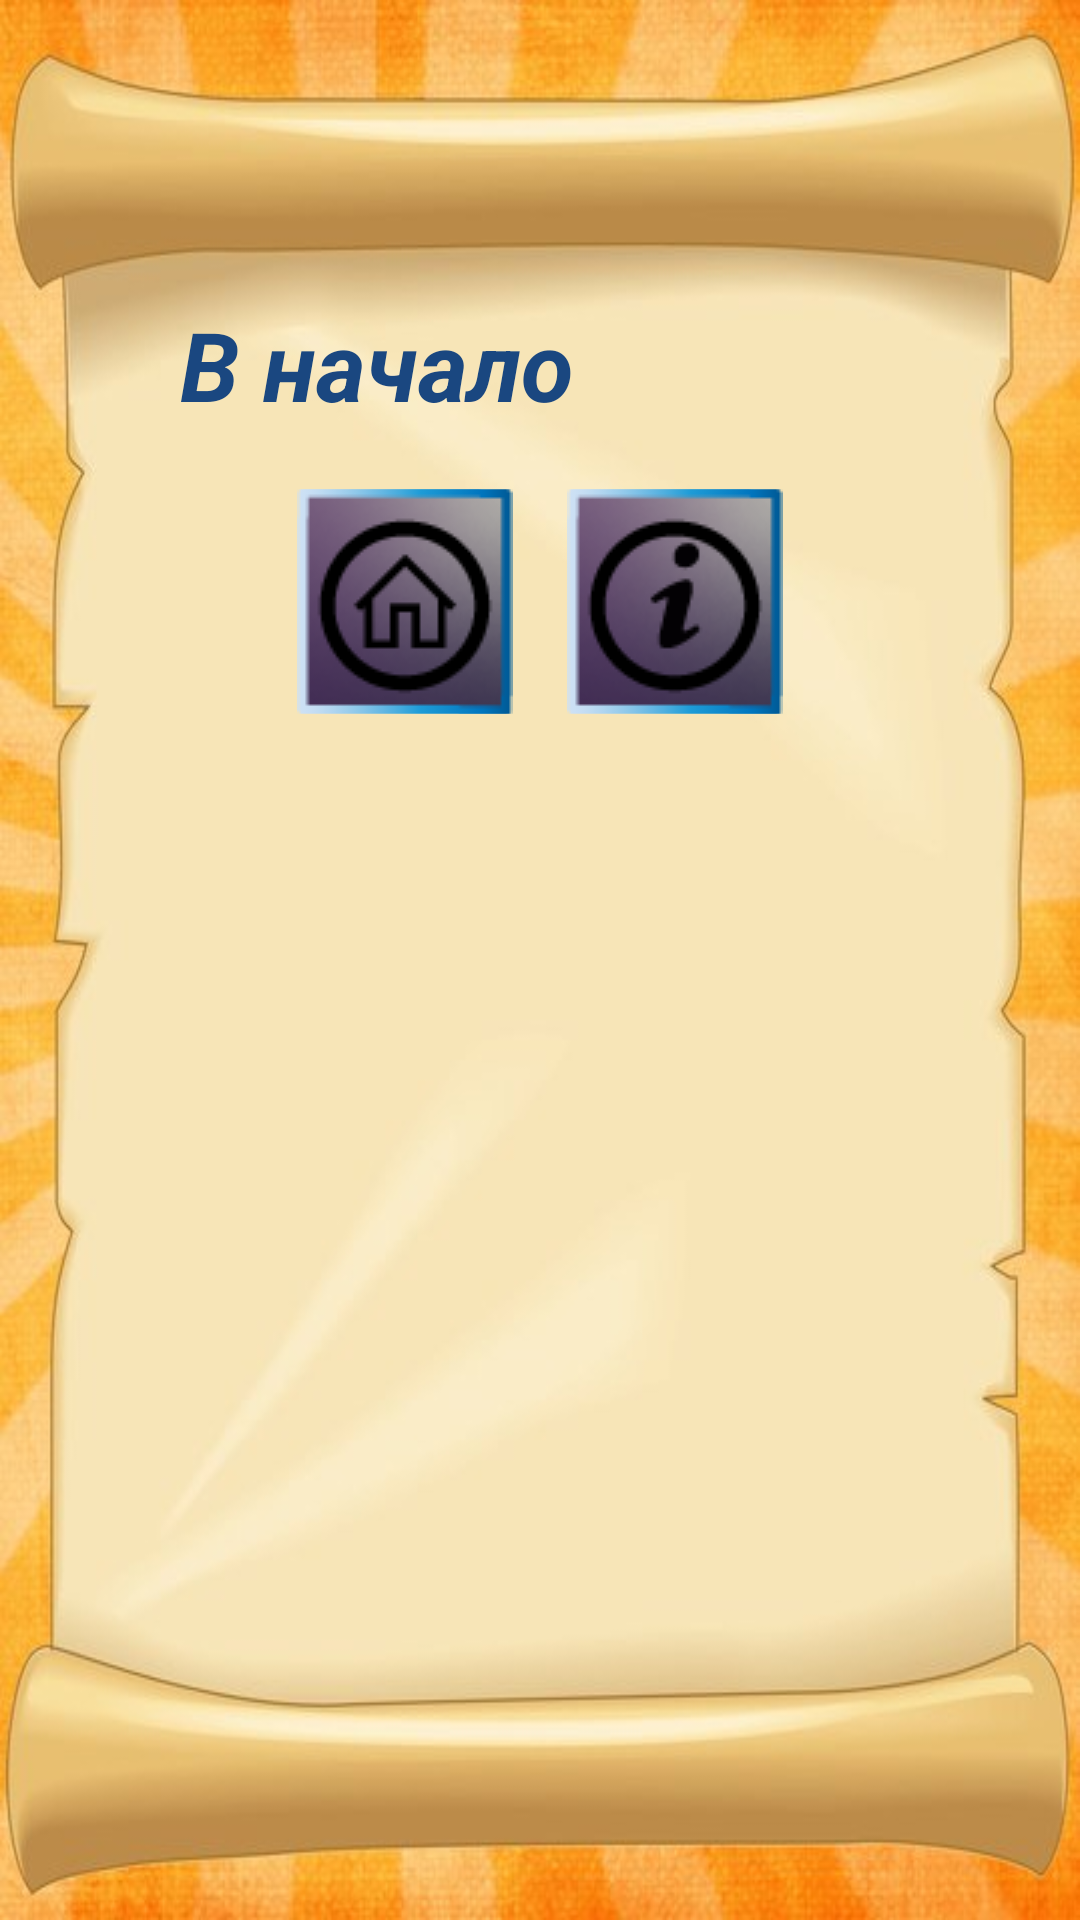

Screen size 1080w x 1920h. Icon name, then its box in pixels as (x1, y1, x2, y2):
home: (297, 489, 513, 714)
info: (567, 489, 783, 714)
